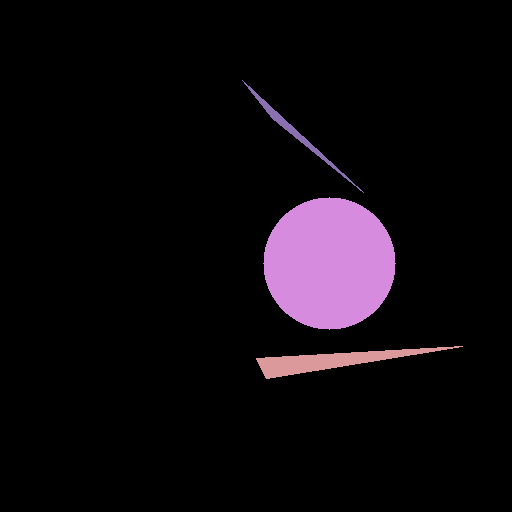circle: (263, 197, 395, 329)
triangle: (242, 80, 363, 192), (256, 346, 462, 378)
